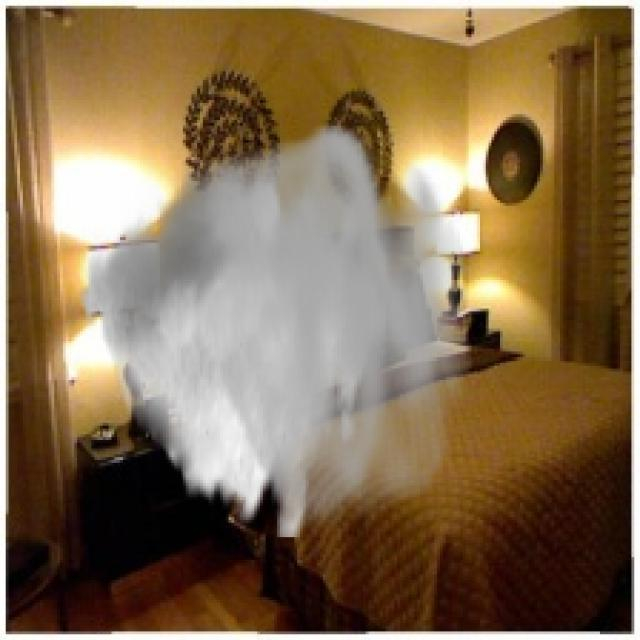Smoke: (77, 117, 472, 537)
